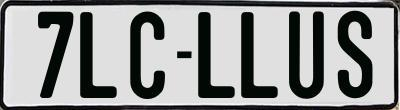7: (37, 11, 78, 98)
C: (128, 10, 166, 103)
L: (196, 10, 239, 98), (79, 12, 116, 103), (240, 12, 277, 98)
S: (337, 10, 372, 100)
U: (287, 10, 322, 102)
